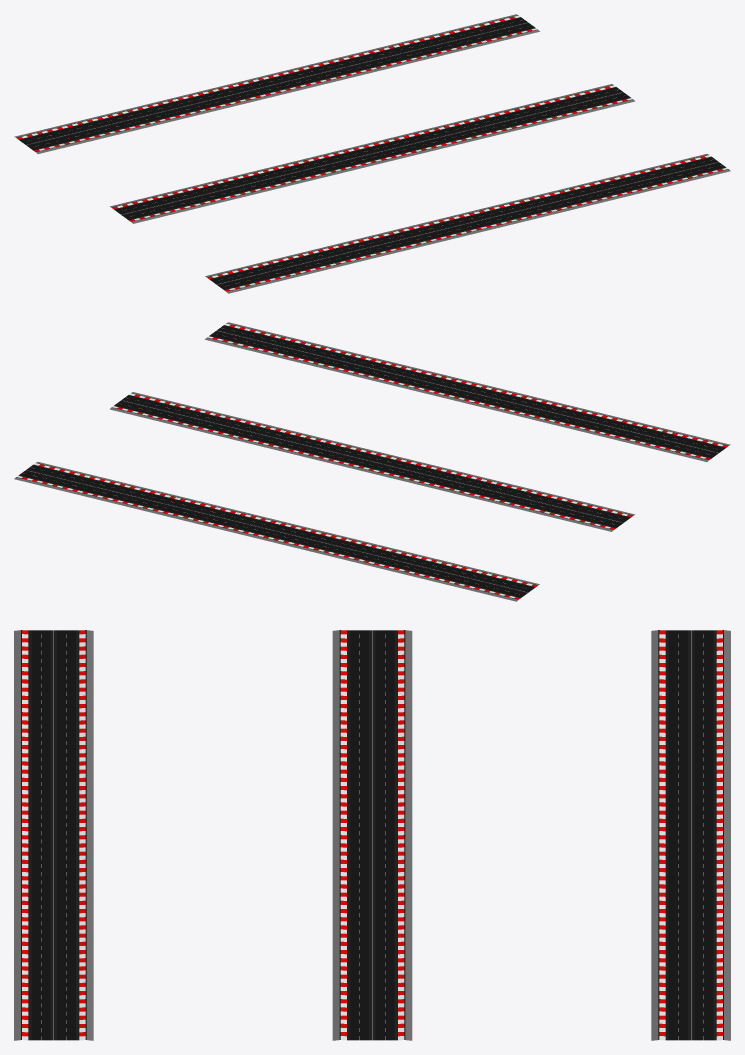
The model's file is S0.1f7h0-3-lines.glb.
The picture shows the model from 3 angles, top to bottom: view 1: azimuth 30°, elevation 25°; view 2: azimuth 150°, elevation 25°; view 3: azimuth 270°, elevation 25°; orthographic projection. The views are drawn at different scales.
Parts seen in each view (by area): view 1: Grid.004, Grid.003, Grid; view 2: Grid, Grid.003, Grid.004; view 3: Grid, Grid.004, Grid.003.
Part boxes in pixels (<box>): Grid.004: <box>205,154,730,293</box>; Grid.003: <box>14,14,539,153</box>; Grid: <box>109,84,635,223</box>; Grid: <box>109,392,635,531</box>; Grid.003: <box>14,462,539,601</box>; Grid.004: <box>205,322,730,461</box>; Grid: <box>332,630,412,1040</box>; Grid.004: <box>14,630,93,1040</box>; Grid.003: <box>651,630,730,1040</box>.
Size of the model in its own units: 304 by 0.3104 by 225.
